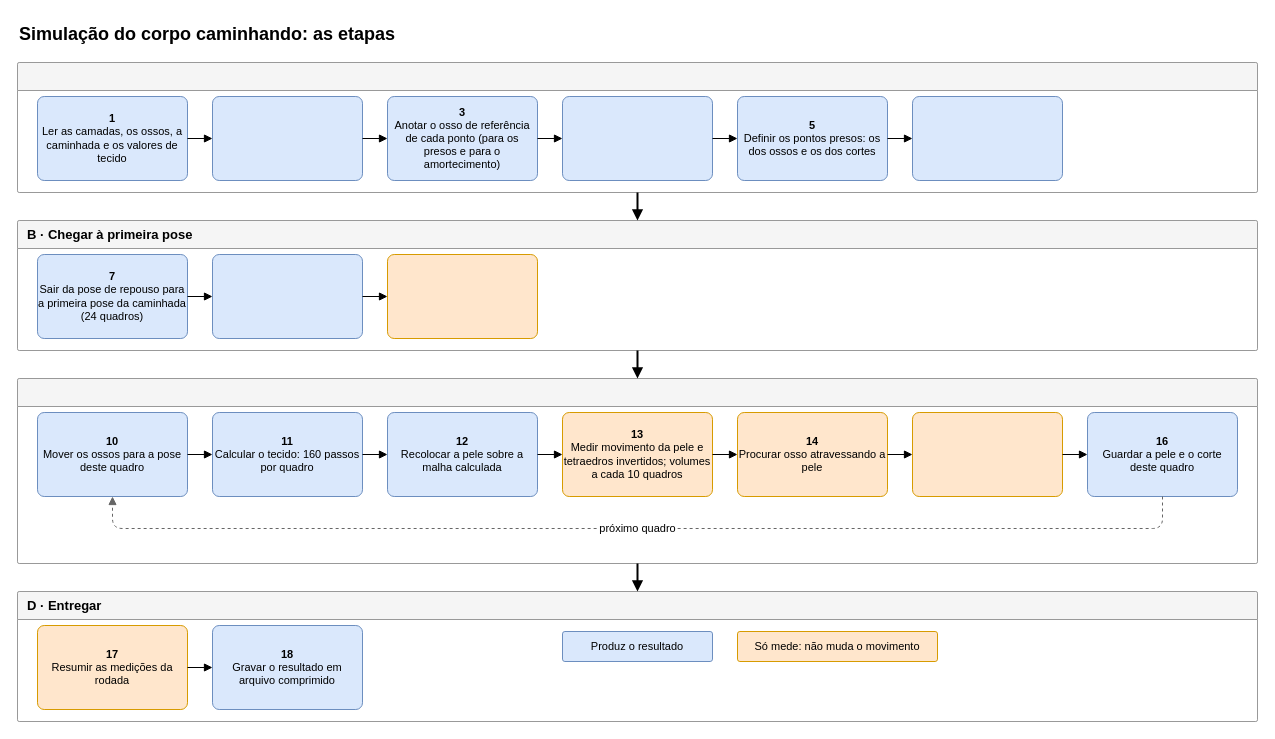
The diagram is 1275 pixels wide and 739 high, and some of its shapes have lost their labels. Here are the shapes that lost their labels. From the top down, the box of each, then its label:
(212, 96, 362, 180): 2 Escolher a parte do corpo a simular (hoje: o corpo inteiro)
(16, 62, 1258, 192): A · Preparar o corpo
(562, 96, 712, 180): 4 Achar a pele e os cortes: pescoço, pulsos e tornozelos
(912, 96, 1062, 180): 6 Dar rigidez e densidade a cada tecido e preparar a GPU
(212, 254, 362, 338): 8 Deixar o tecido assentar nessa pose (12 quadros)
(386, 254, 538, 338): 9 Preparar as medições e escolher a metade que aparecerá em corte
(16, 378, 1258, 564): C · Caminhar, quadro a quadro · 168 quadros: 144 andando + 24 parado no fim
(912, 412, 1062, 496): 15 Repetir a procura no modelo atual, para comparar (nos 144 quadros)
